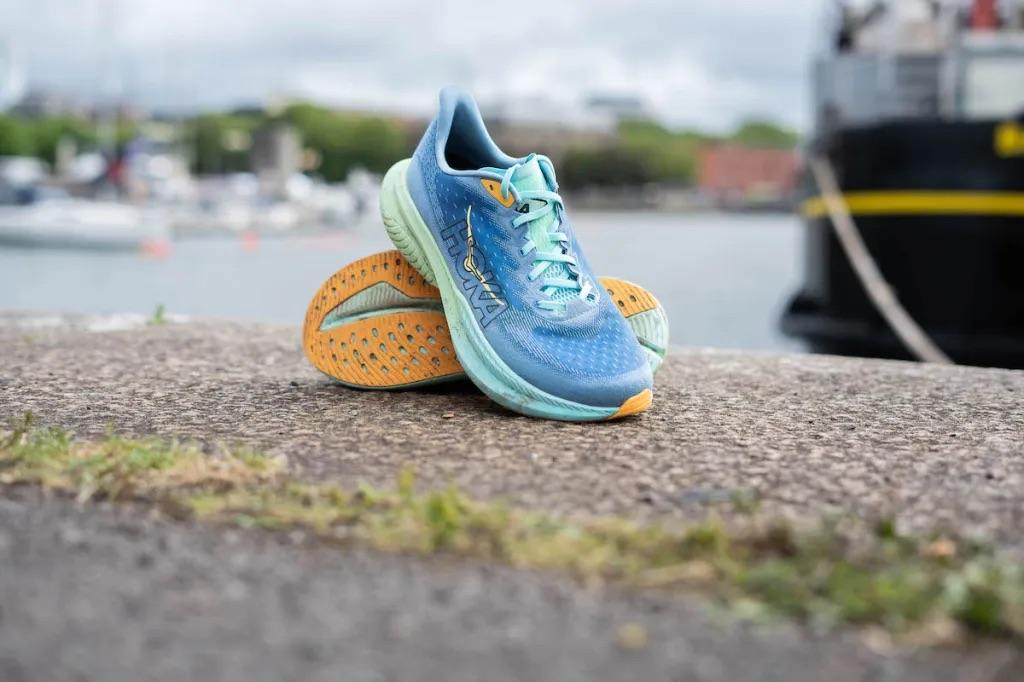hoka logo: (430, 204, 526, 345)
